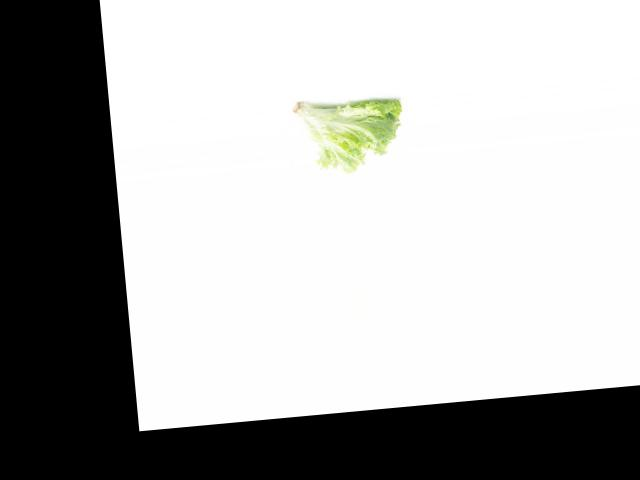lettuce: (289, 90, 406, 179)
